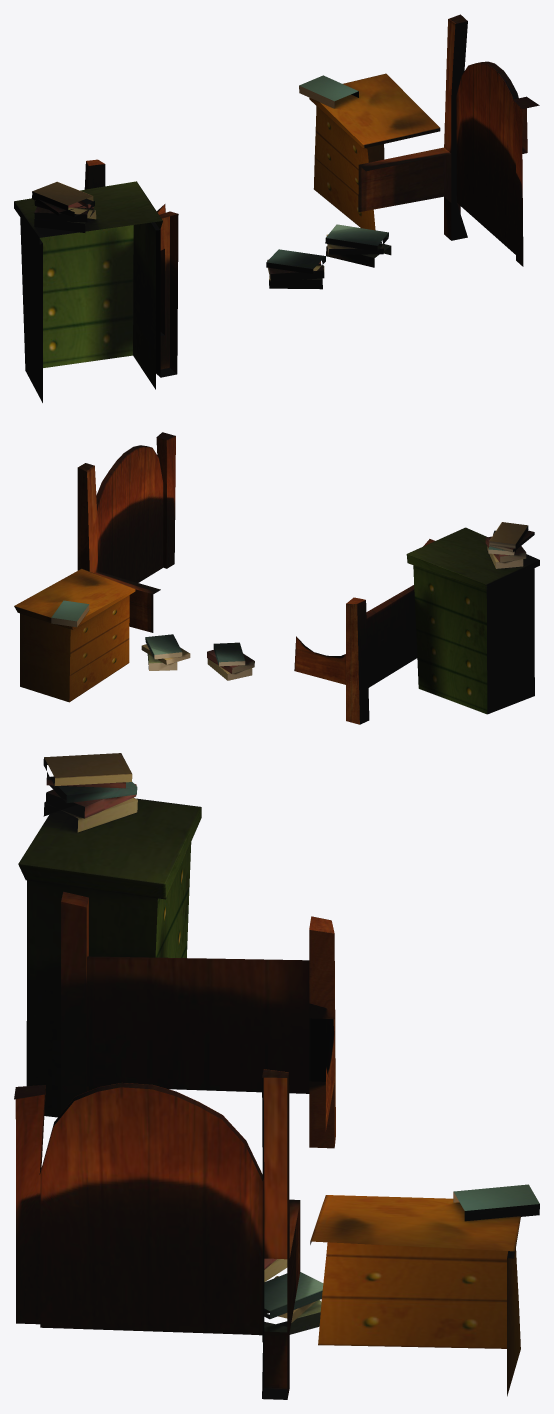
File: bedroom_objects.dae
3 views of the same model, one above another, from view 1: azimuth 30°, elevation 25°; view 2: azimuth 150°, elevation 25°; view 3: azimuth 270°, elevation 25° (orthographic). The views are drawn at different scales.
Visible parts, largest first — view 1: BedFrame, ChestOfDrawers, BedsideTable, UnderBed_BookPile01, UnderBed_BookPile03, ChestOfDrawers_BookPile03, ChestOfDrawers_BookPile02, BedsideTableBook; view 2: BedFrame, ChestOfDrawers, BedsideTable, UnderBed_BookPile03, UnderBed_BookPile01, ChestOfDrawers_BookPile02, BedsideTableBook, ChestOfDrawers_BookPile03; view 3: BedFrame, BedsideTable, ChestOfDrawers, ChestOfDrawers_BookPile03, UnderBed_BookPile01, ChestOfDrawers_BookPile02, BedsideTableBook.
Boxes of the visible parts, box(x1,y1,x2,y2) form: BedFrame: box(84, 14, 539, 377); ChestOfDrawers: box(14, 181, 162, 402); BedsideTable: box(309, 73, 440, 230); UnderBed_BookPile01: box(325, 224, 391, 267); UnderBed_BookPile03: box(266, 249, 325, 289); ChestOfDrawers_BookPile03: box(34, 200, 96, 232); ChestOfDrawers_BookPile02: box(32, 181, 93, 215); BedsideTableBook: box(299, 75, 358, 108); BedFrame: box(77, 432, 434, 724); ChestOfDrawers: box(406, 527, 539, 714); BedsideTable: box(14, 568, 135, 702); UnderBed_BookPile03: box(207, 642, 254, 680); UnderBed_BookPile01: box(141, 634, 190, 670); ChestOfDrawers_BookPile02: box(489, 522, 534, 552); BedsideTableBook: box(51, 600, 89, 627); ChestOfDrawers_BookPile03: box(485, 530, 526, 568); BedFrame: box(14, 891, 335, 1399); BedsideTable: box(310, 1195, 520, 1396); ChestOfDrawers: box(18, 798, 201, 1117); ChestOfDrawers_BookPile03: box(43, 776, 137, 832); UnderBed_BookPile01: box(262, 1272, 323, 1342); ChestOfDrawers_BookPile02: box(43, 753, 132, 788); BedsideTableBook: box(453, 1184, 539, 1221).
Size of the model in its own units: 22.44 by 9.33 by 13.81.
Materials: 8 (8 with a texture image).
